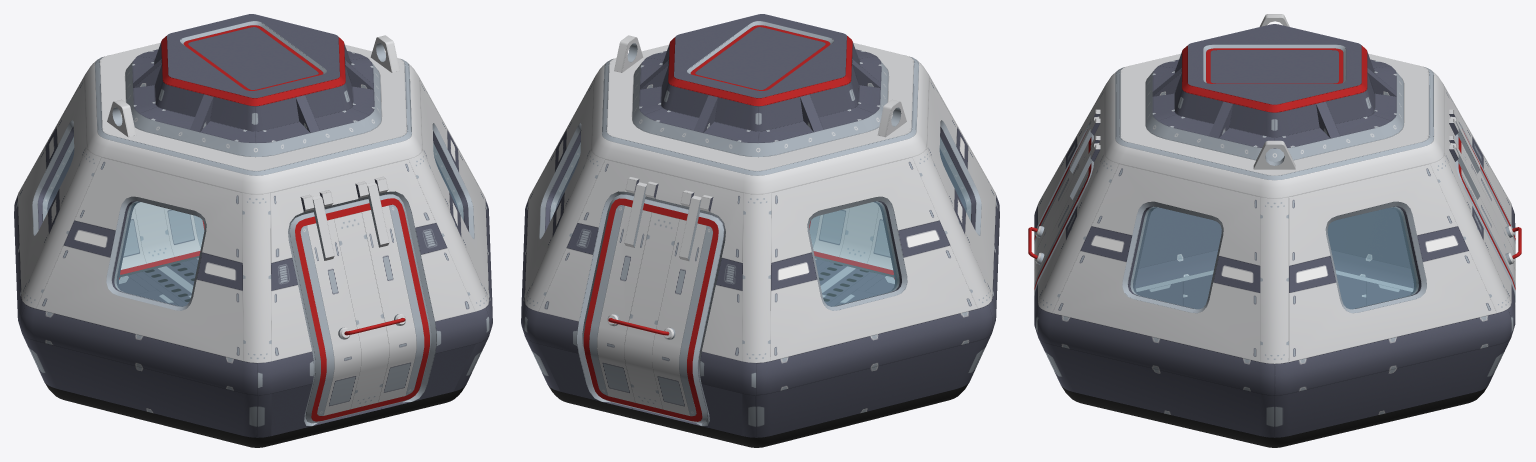
File: Escape_Pod_01.FBX
The picture shows the model from 3 angles, left to right: view 1: azimuth 30°, elevation 25°; view 2: azimuth 150°, elevation 25°; view 3: azimuth 270°, elevation 25°; orthographic projection.
Visible parts, largest first — view 1: Escape_Pod_01, Door_Back, Glass, Door_Top, Door_Front; view 2: Escape_Pod_01, Door_Front, Glass, Door_Top, Door_Back; view 3: Escape_Pod_01, Glass, Door_Top, Door_Front, Door_Back.
Boxes of the visible parts, <box> form: Escape_Pod_01: <box>14,14,492,447</box>; Door_Back: <box>289,182,431,423</box>; Glass: <box>43,138,462,306</box>; Door_Top: <box>183,25,323,90</box>; Door_Front: <box>119,202,204,277</box>; Escape_Pod_01: <box>521,14,999,447</box>; Door_Front: <box>582,182,724,423</box>; Glass: <box>551,138,970,306</box>; Door_Top: <box>690,25,830,90</box>; Door_Back: <box>809,202,894,277</box>; Escape_Pod_01: <box>1034,14,1515,447</box>; Glass: <box>1131,207,1418,308</box>; Door_Top: <box>1206,48,1343,83</box>; Door_Front: <box>1450,116,1521,302</box>; Door_Back: <box>1028,116,1099,293</box>.
Size of the model in its own units: 5.76 by 3.5 by 5.39.
Materials: 5 (4 with a texture image).
